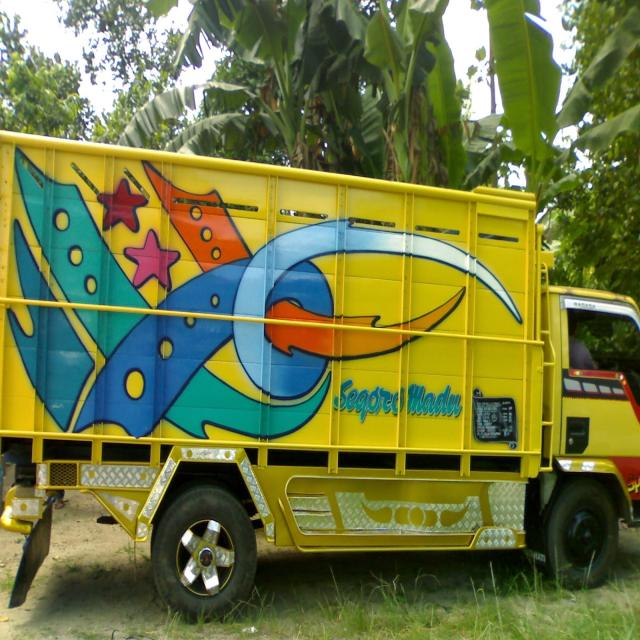truck: (1, 125, 640, 610)
